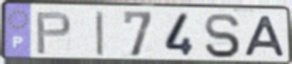4: (162, 11, 199, 60)
7: (122, 9, 155, 59)
A: (242, 14, 288, 59)
I: (94, 10, 106, 58)
P: (34, 10, 74, 56)
S: (203, 12, 242, 60)
